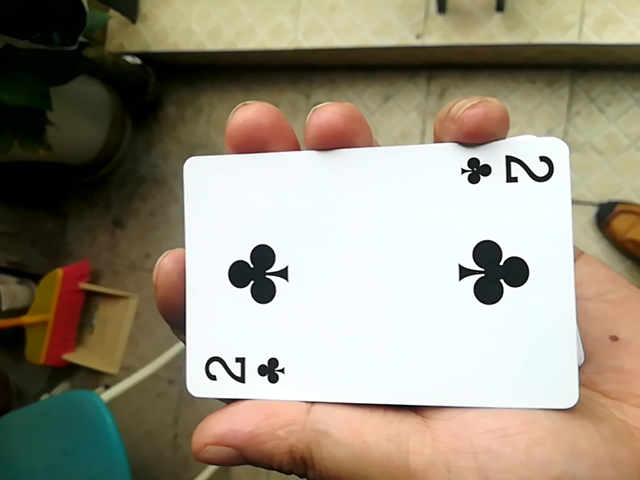mh 2: (173, 139, 576, 417)
